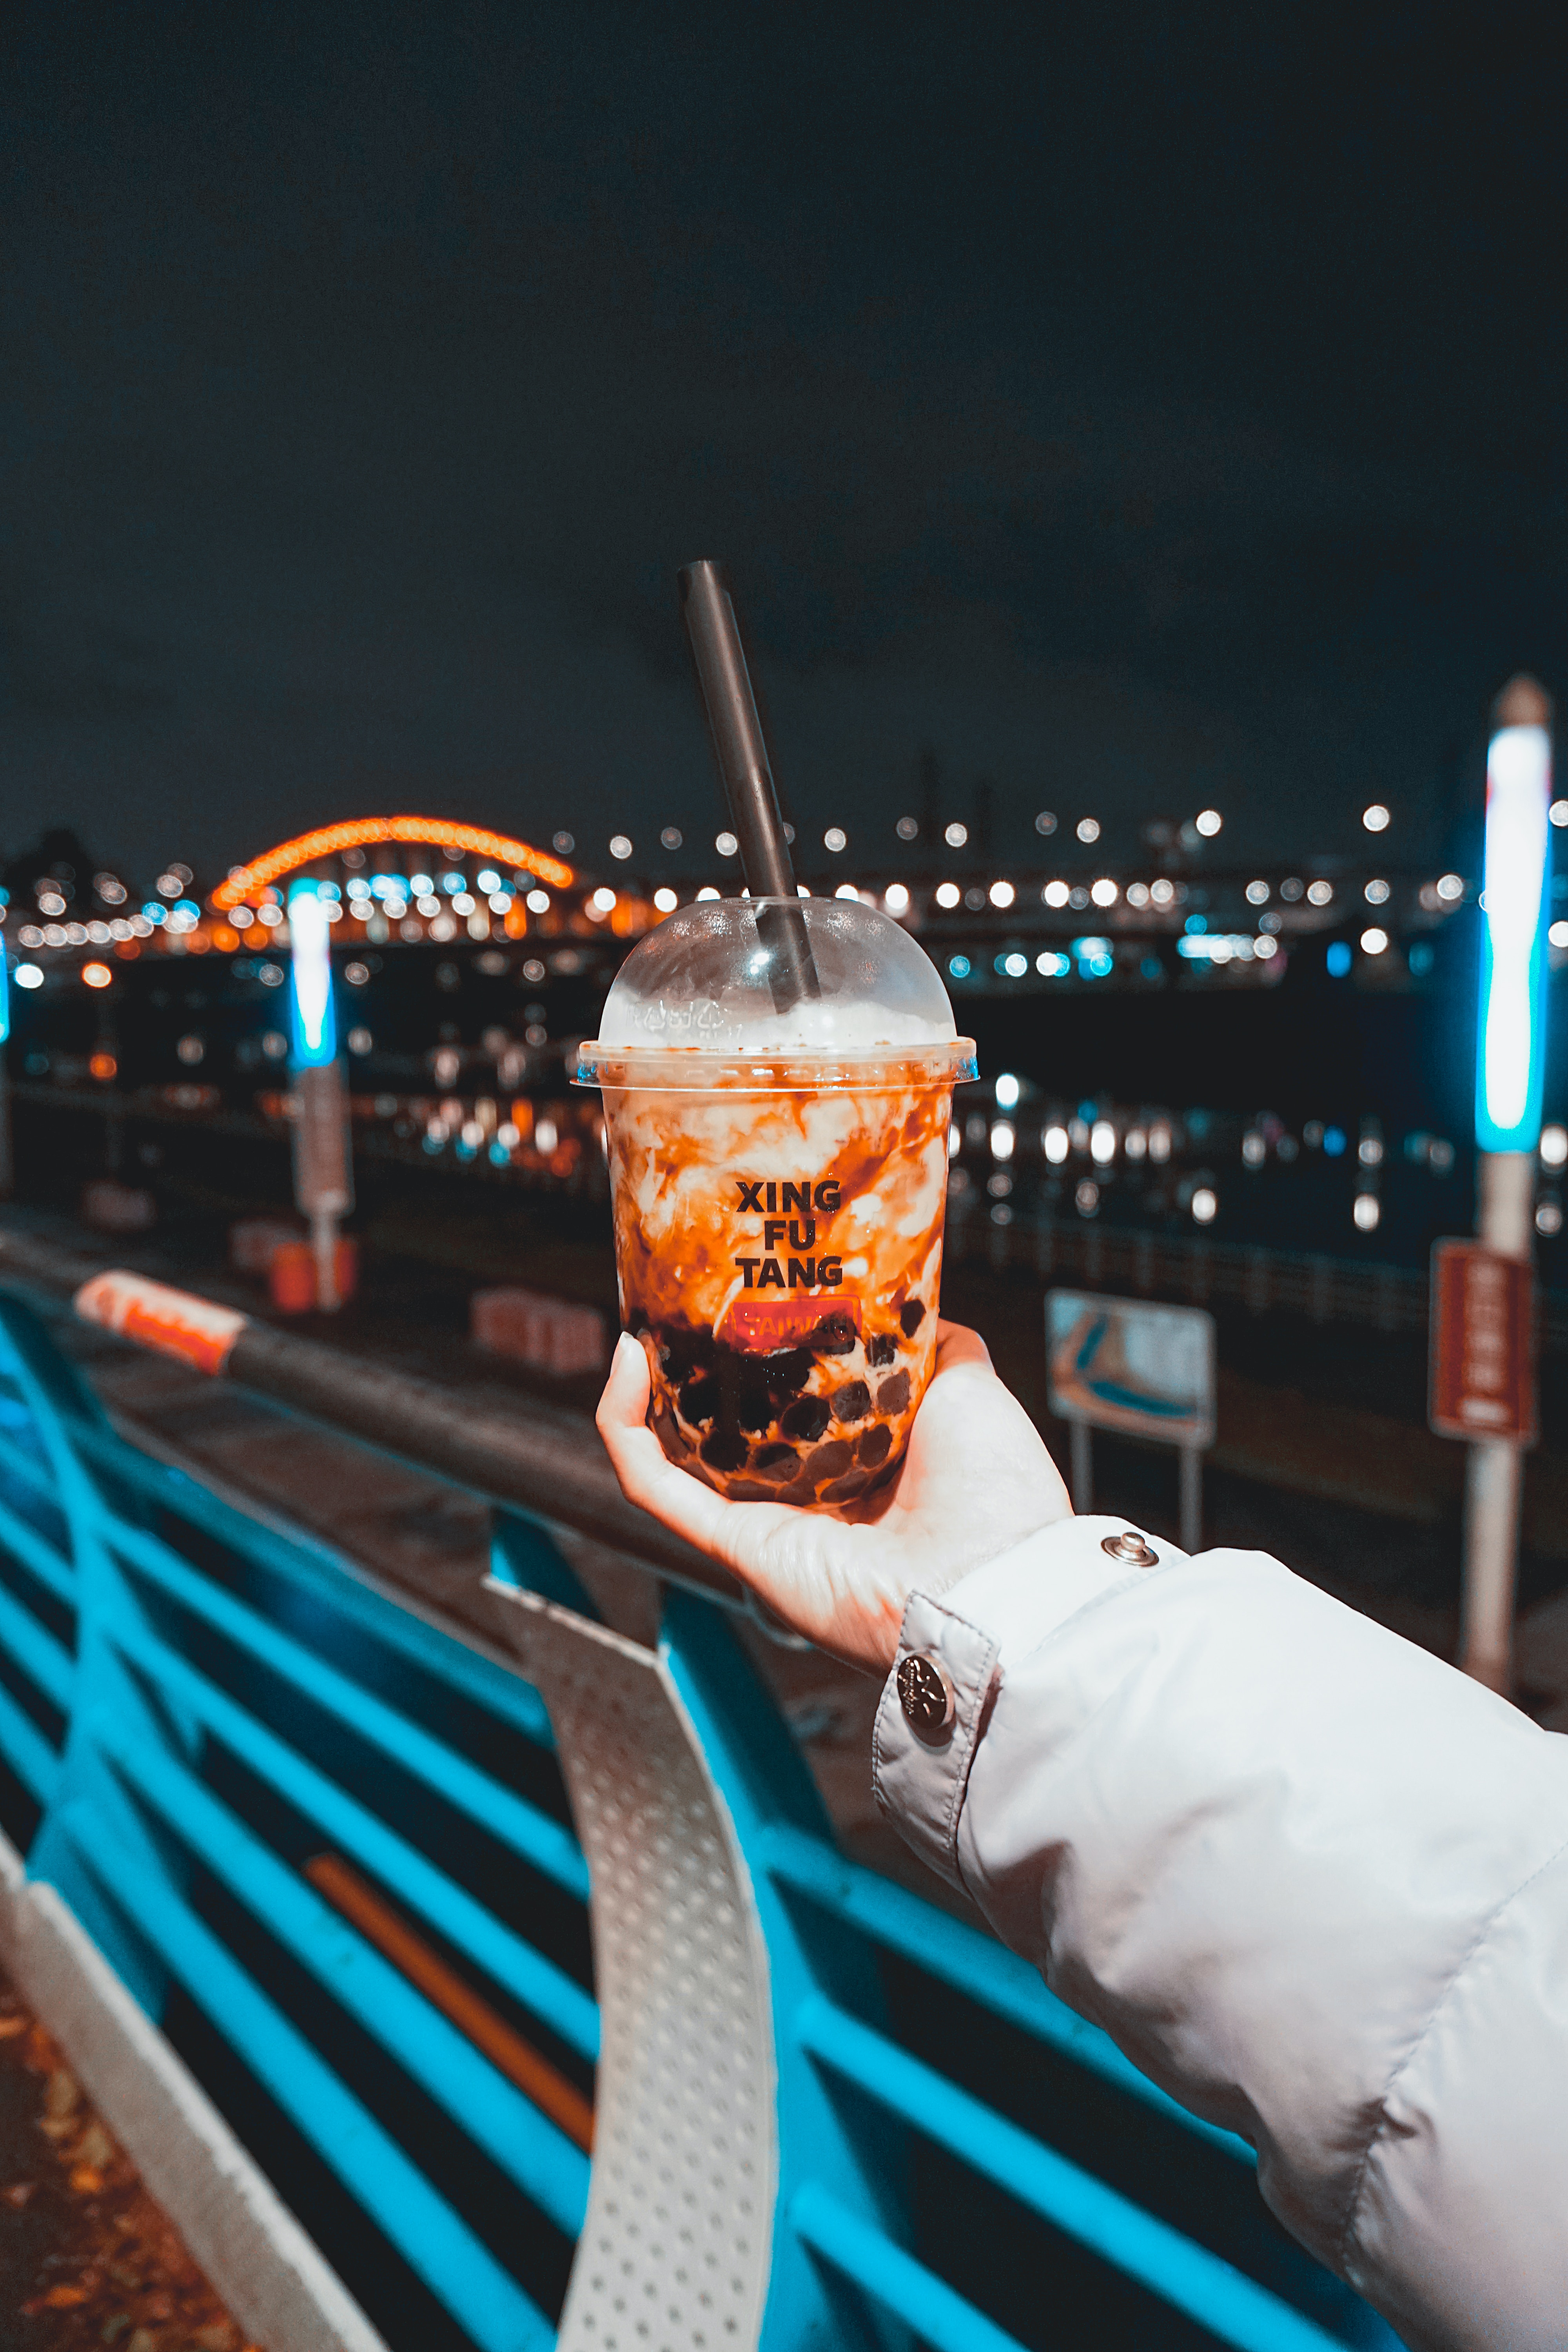boba: (705, 1355, 779, 1431), (768, 1347, 816, 1396), (782, 1396, 829, 1442), (702, 1428, 746, 1472), (754, 1444, 800, 1482), (677, 1381, 716, 1423), (805, 1442, 852, 1475), (833, 1382, 872, 1421), (823, 1472, 868, 1503), (857, 1428, 894, 1465), (878, 1374, 912, 1412), (719, 1479, 773, 1502), (663, 1353, 693, 1384), (777, 1482, 817, 1503), (901, 1300, 924, 1335), (625, 1306, 647, 1339), (875, 1463, 900, 1491)
